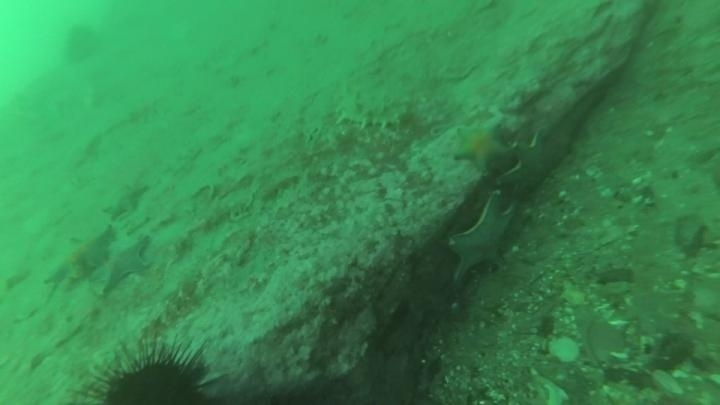echinus: (83, 338, 216, 404), (61, 22, 104, 65)
holothurian: (328, 83, 414, 134)
starfish: (445, 193, 522, 283), (42, 223, 117, 290), (91, 230, 154, 296), (451, 119, 513, 176), (100, 179, 151, 221)
